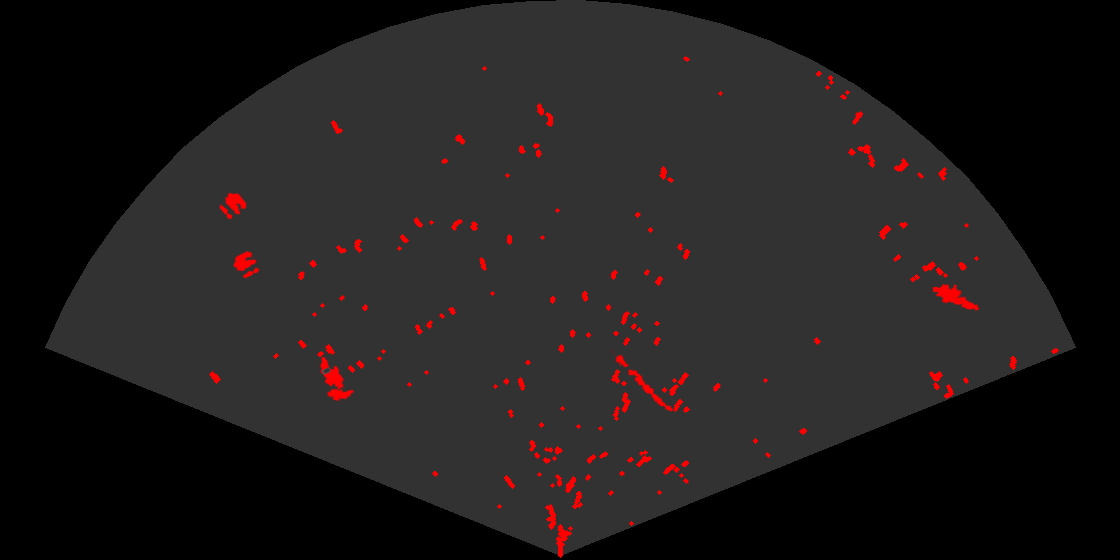AUV: (319, 355, 345, 391), (325, 385, 356, 403)
ball: (218, 191, 248, 221), (232, 249, 261, 280)
chain: (608, 349, 675, 413)
frogman: (933, 282, 980, 312)
